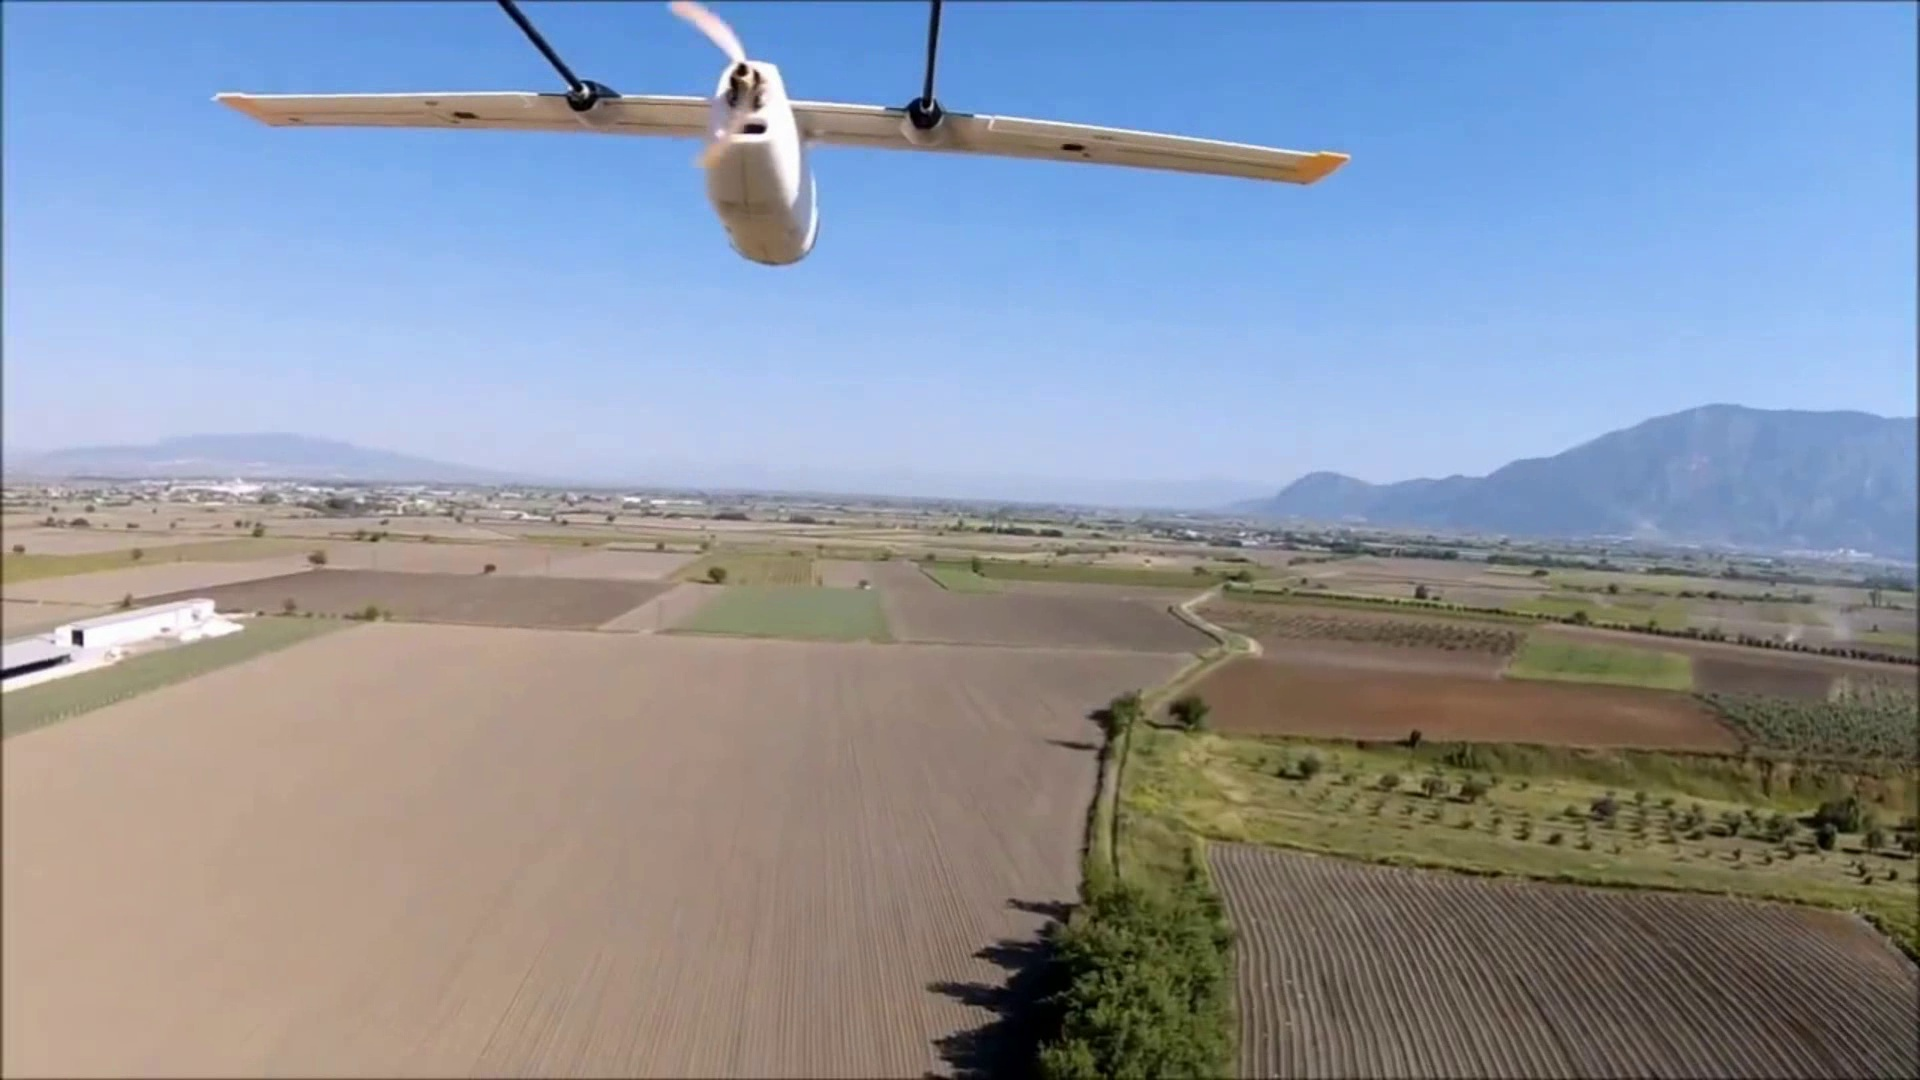airplane: (214, 4, 1346, 266)
